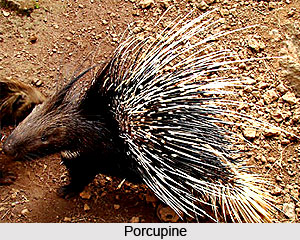porcupine: (4, 21, 246, 210)
